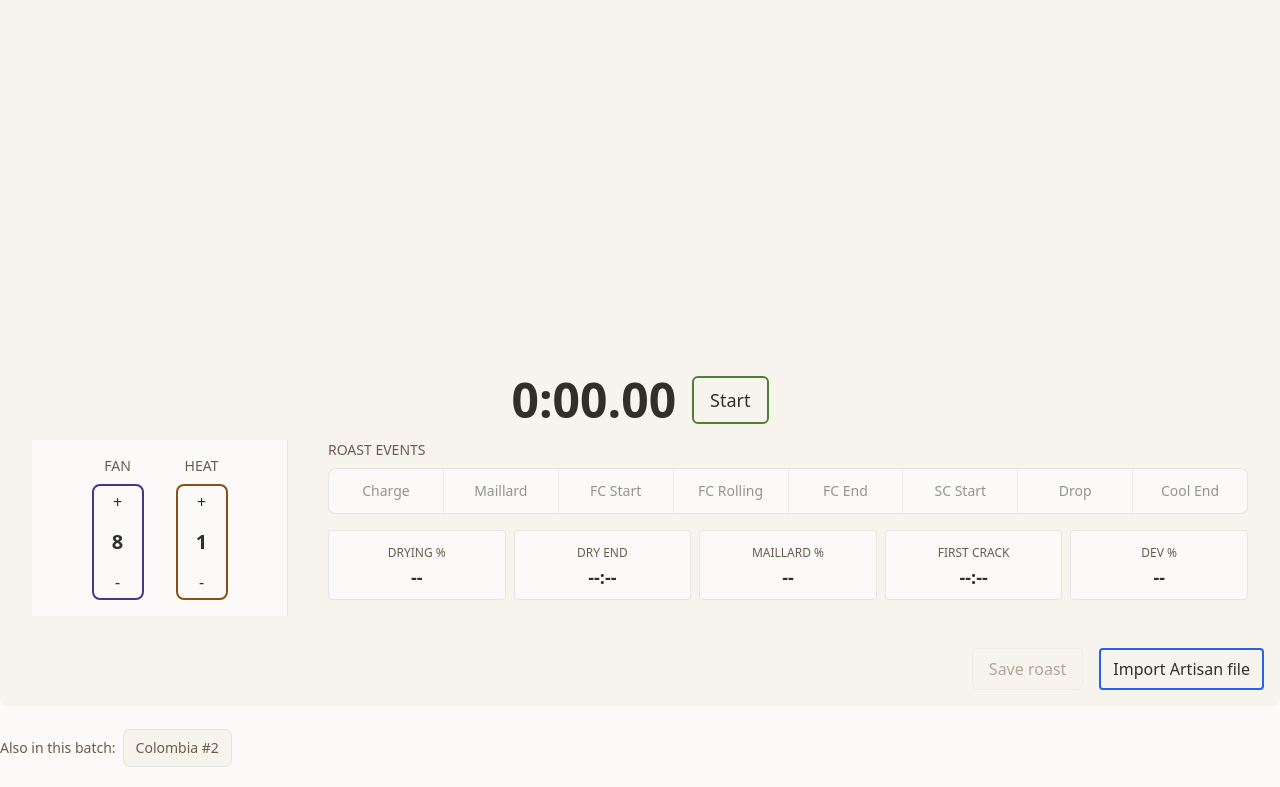
Test: roast page live roast guard › stops sampling once the member leaves a running roast
(page scrolled)
Step 1. Click the button with id "start-end-roast" → click(730, 400), box [692,376,768,424]
(page scrolled)
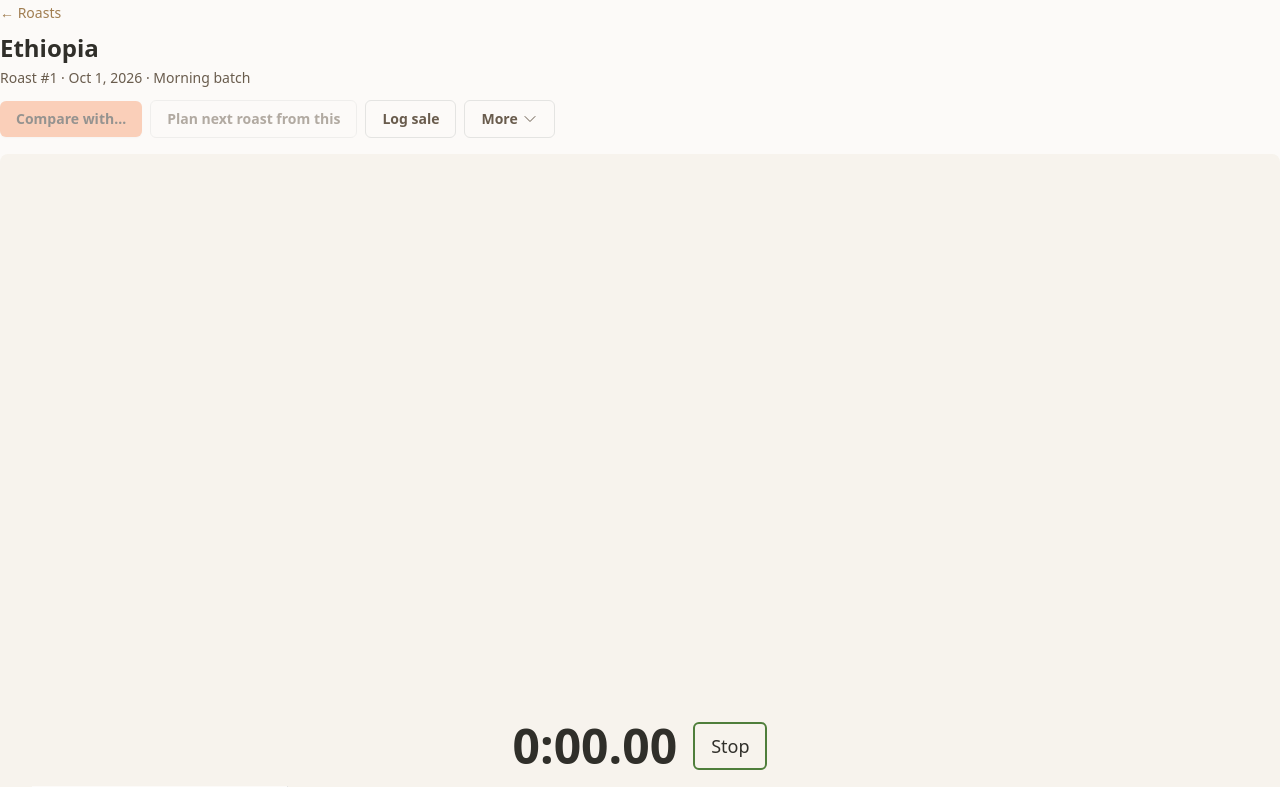
Check: the button with id "start-end-roast" reads "Stop", box [693,722,767,770]
Step 2. Click the link "← Roasts" → click(31, 12), box [0,3,61,22]
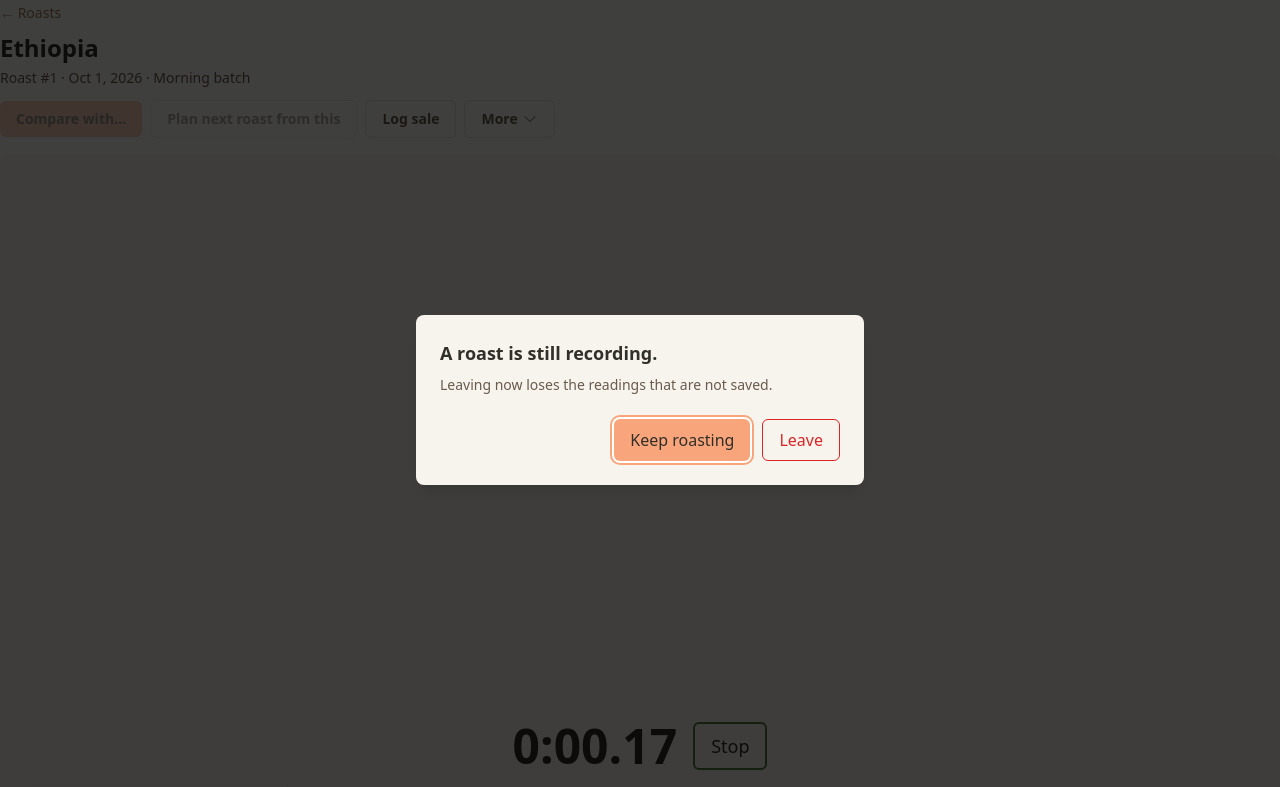
Step 3. Click the button "Leave" → click(801, 440), box [762,419,840,461]
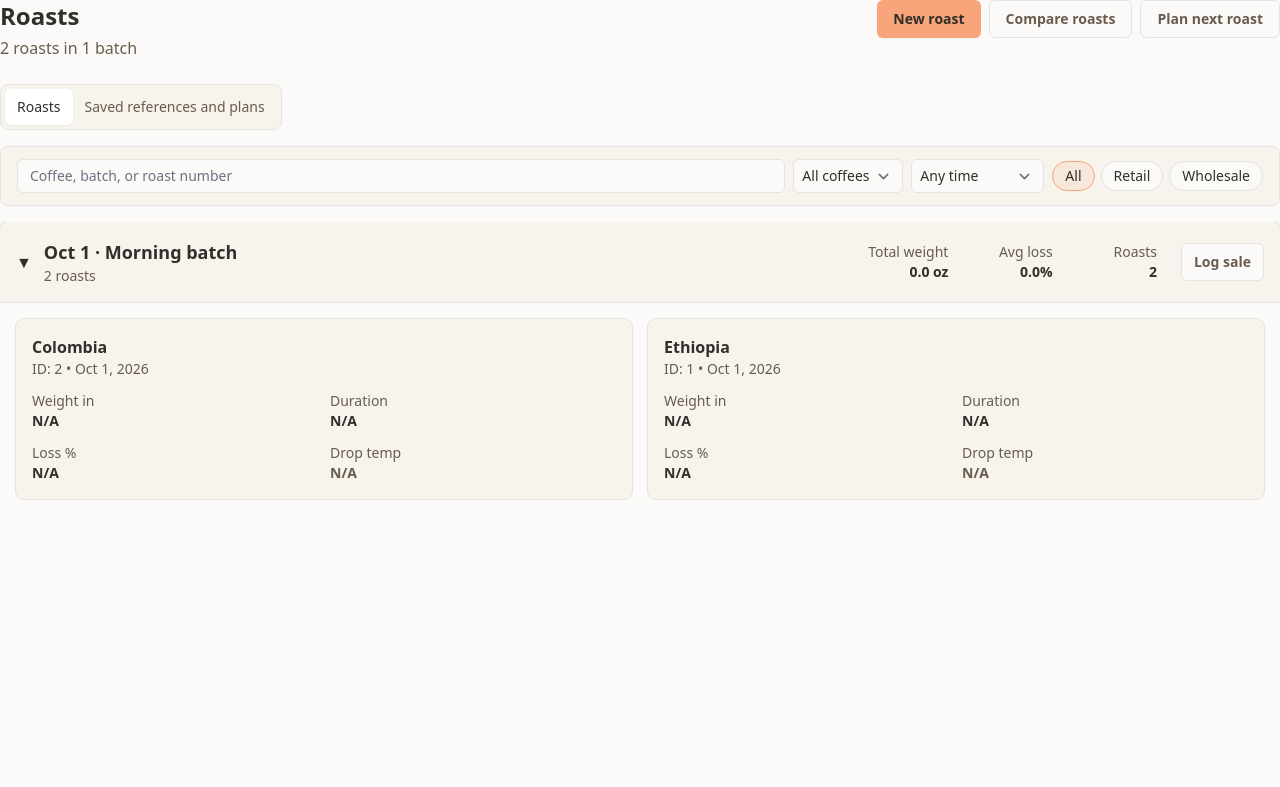
Check: the button with id "start-end-roast" is gone
